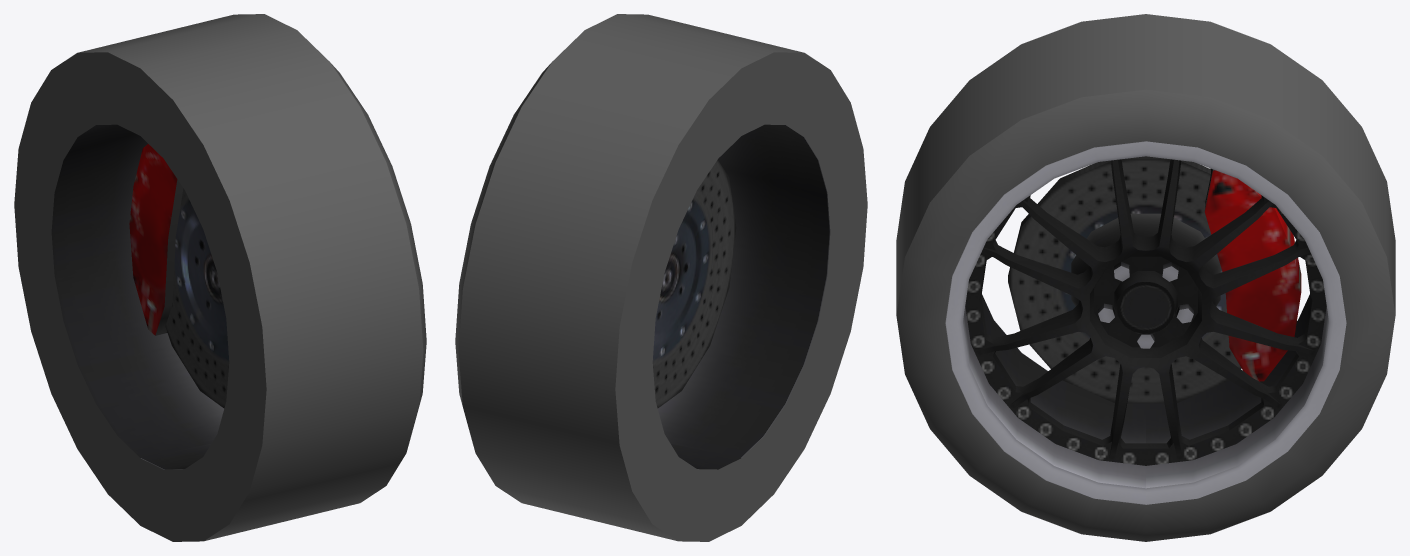
Rendered from Tyer.fbx.
The picture shows the model from 3 angles, left to right: view 1: azimuth 30°, elevation 25°; view 2: azimuth 150°, elevation 25°; view 3: azimuth 270°, elevation 25°; orthographic projection.
Visible parts, largest first — view 1: tyer, disk_brack; view 2: tyer, disk_brack; view 3: tyer, disk_brack.
Boxes of the visible parts, box(x1,y1,x2,y2) form: tyer: box(14, 14, 426, 541); disk_brack: box(129, 144, 229, 408); tyer: box(455, 14, 867, 541); disk_brack: box(652, 160, 736, 408); tyer: box(896, 14, 1395, 541); disk_brack: box(1008, 156, 1301, 403).
Size of the model in its own units: 34.06 by 86.64 by 86.64.
2 materials, 1 textured.
